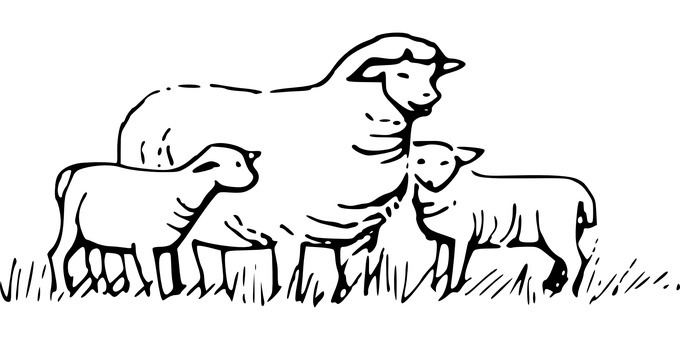sheep: (102, 13, 469, 303), (38, 130, 263, 298), (397, 134, 612, 308)
